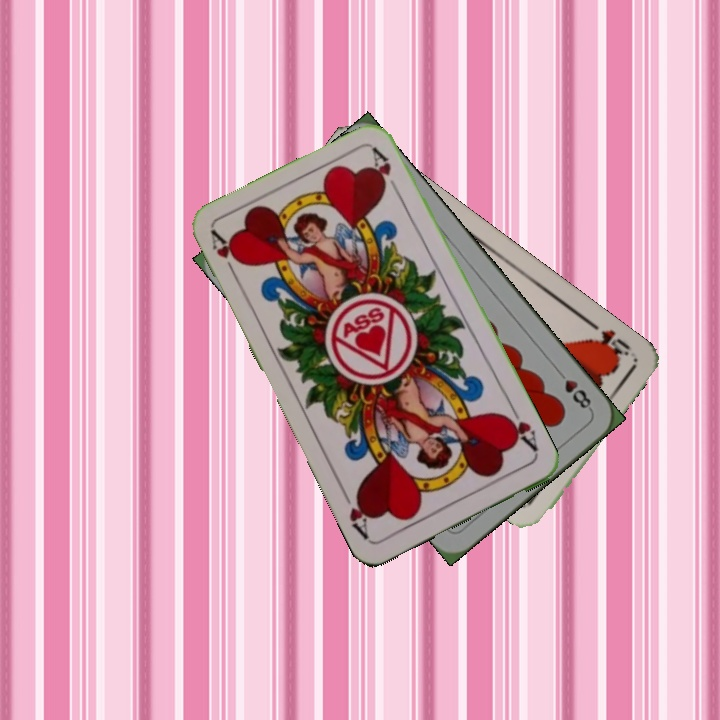H8: (552, 365, 595, 414)
HA: (499, 402, 541, 457), (206, 227, 245, 283)
HO: (585, 317, 633, 362)
